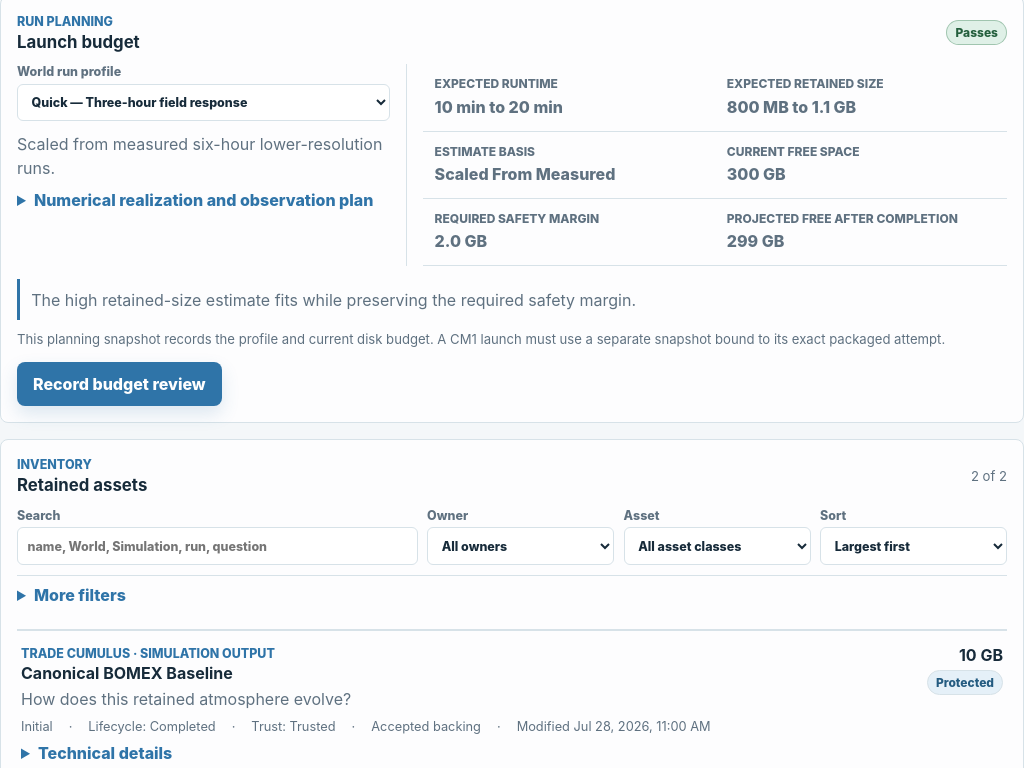
Test case: StorageWorkspace › records an immutable review and runs the immediate prelaunch check
The width and height of the screenshot is (1024, 768).
(page scrolled)
Expected: the heading "Launch budget" is shown, top-left (17, 32), bottom-right (140, 52)
Click the button "Record budget review". click: [119, 384]
box: top-left (17, 362), bottom-right (222, 406)
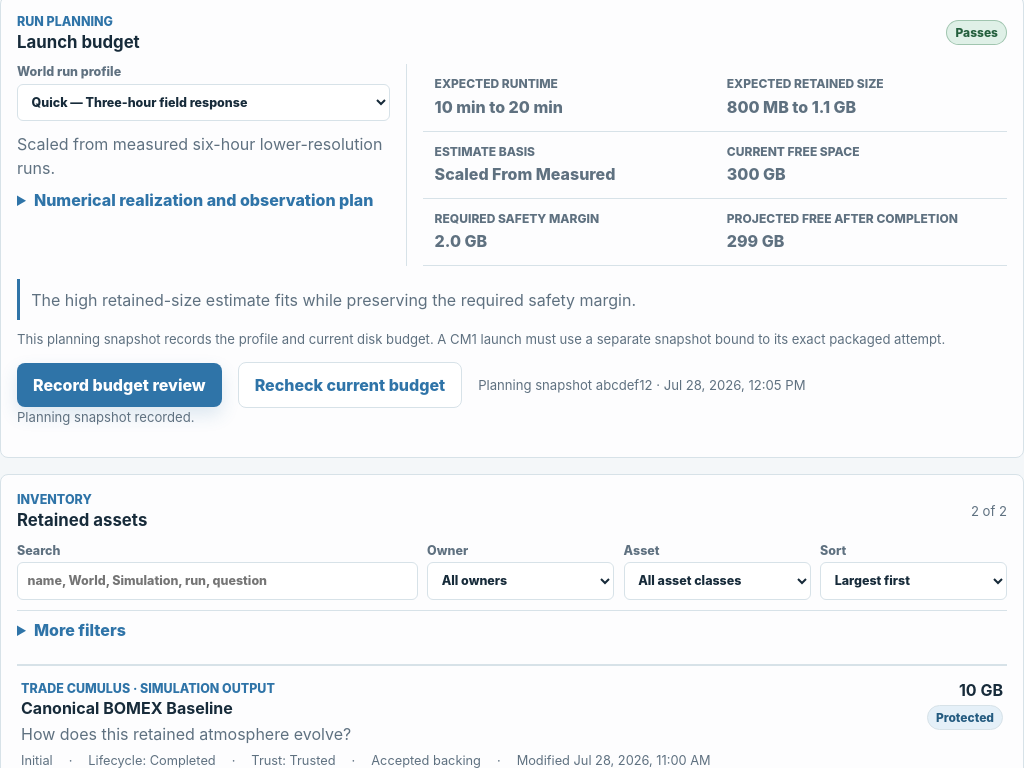
Result: the text "Planning snapshot abcdef12 · Jul 28, 2026, 12:05 PM" is shown at top-left (478, 377), bottom-right (806, 393)
Click the button "Recheck current budget". click: [350, 385]
box: top-left (238, 362), bottom-right (462, 408)
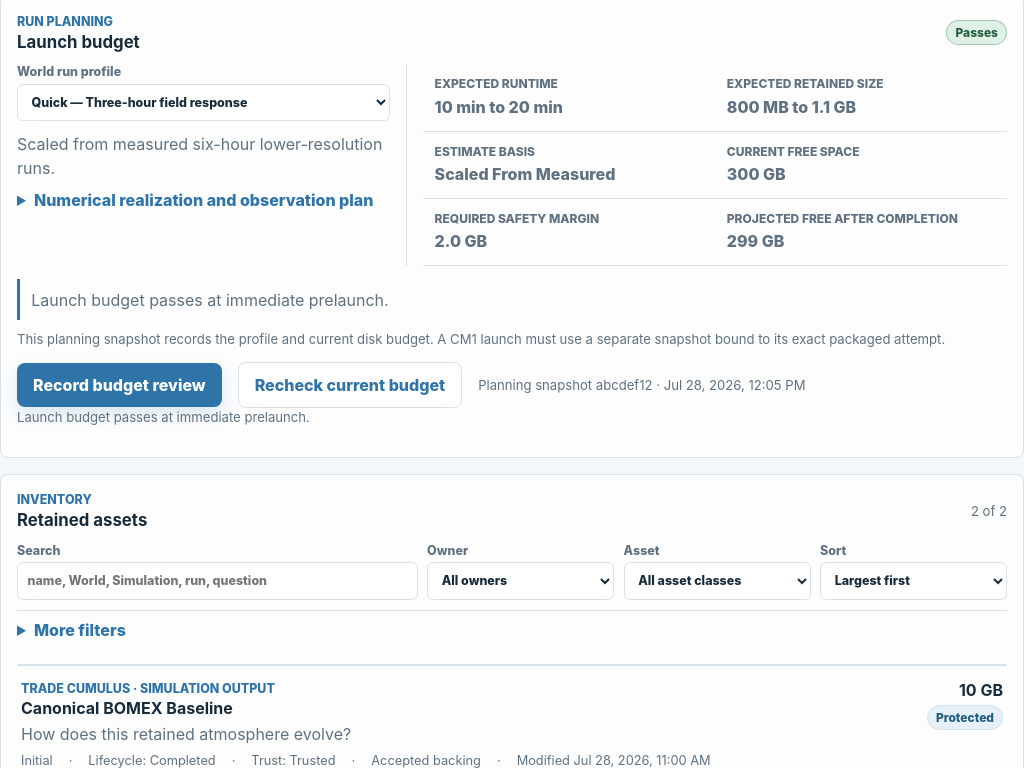
Result: the message reads "Launch budget passes at immediate prelaunch." at top-left (17, 409), bottom-right (310, 425)
